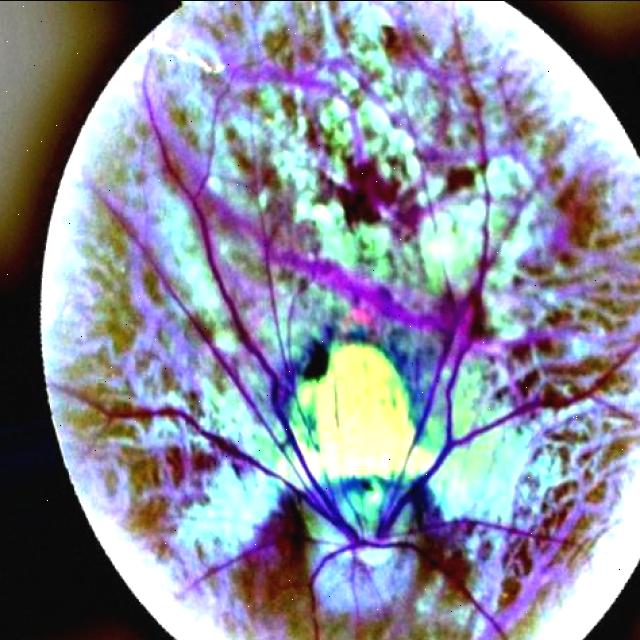Macula: (300, 320, 337, 384)
Nerves: (198, 198, 328, 497), (403, 345, 537, 502), (106, 409, 314, 506)
Optic Disk: (305, 485, 417, 620)
